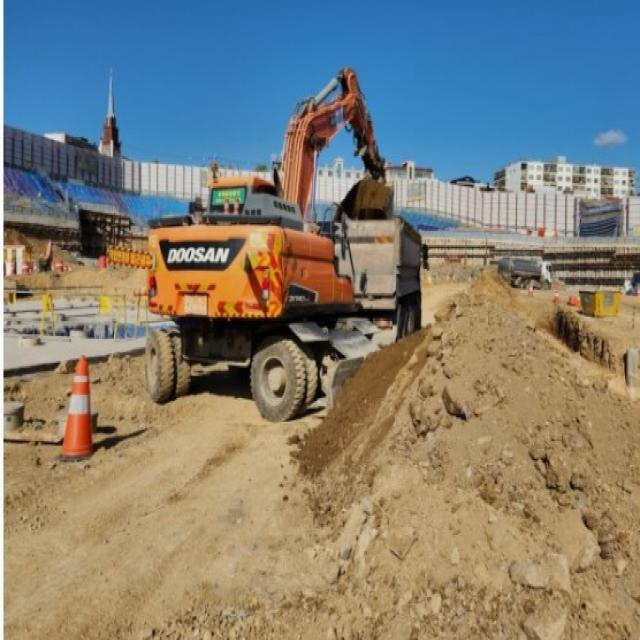dump truck: (323, 217, 429, 348), (498, 260, 552, 289)
excavator: (145, 67, 394, 422)
